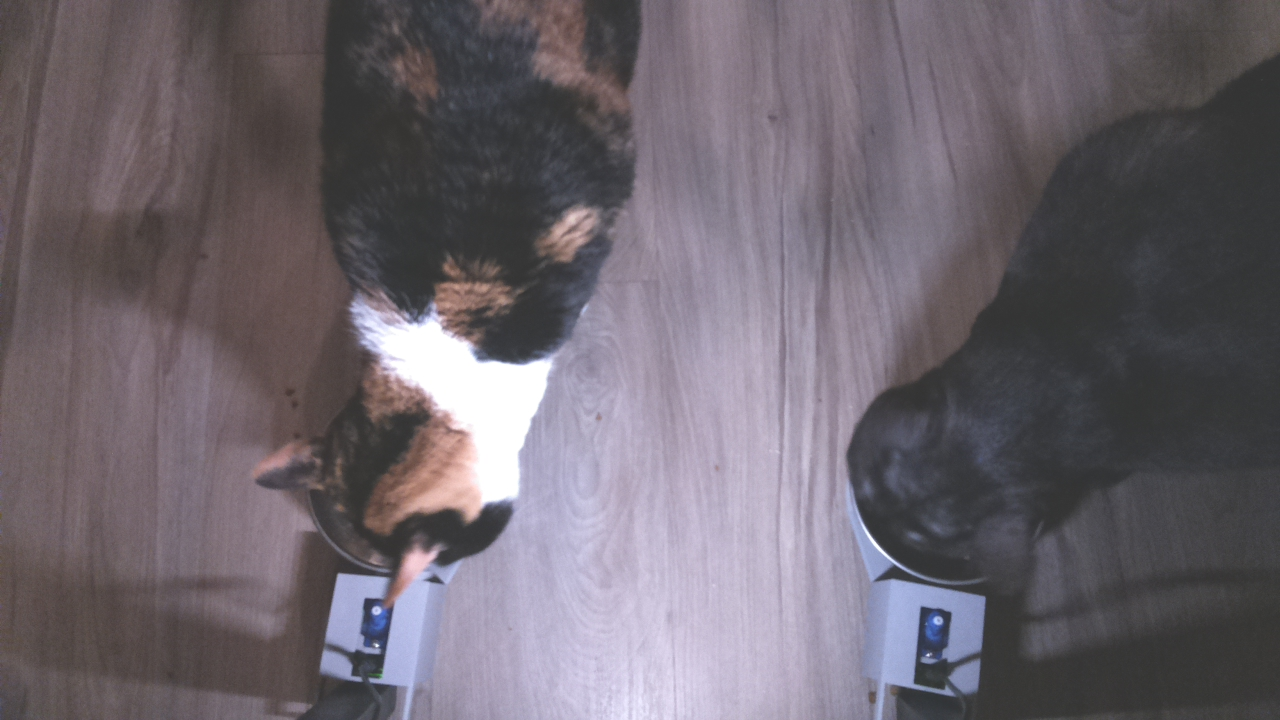bella_eating: (242, 311, 547, 606)
saki_eating: (835, 351, 1121, 587)
